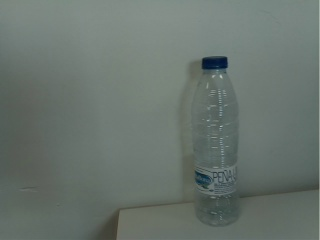botella plastico: (190, 54, 245, 228)
